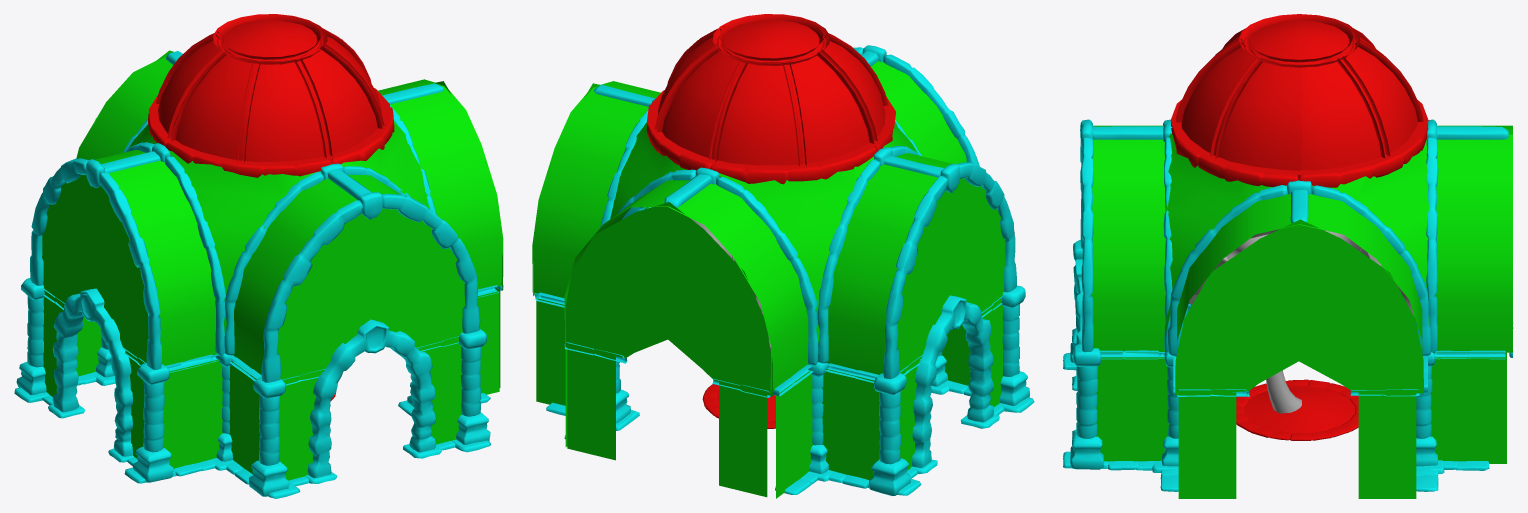
The model's file is Hallway_CrossSection_1.fbx.
The picture shows the model from 3 angles, left to right: view 1: azimuth 30°, elevation 25°; view 2: azimuth 150°, elevation 25°; view 3: azimuth 270°, elevation 25°; orthographic projection. The views are drawn at different scales.
Parts seen in each view (by area): view 1: Room_Cross:CrossRoomFinishedRoomsWalls, Room_Cross:FrameCrossRoomFinishedRooms, polySurface334; view 2: Room_Cross:CrossRoomFinishedRoomsWalls, Room_Cross:FrameCrossRoomFinishedRooms, polySurface334; view 3: Room_Cross:CrossRoomFinishedRoomsWalls, polySurface334, Room_Cross:FrameCrossRoomFinishedRooms, SM_Oak_Tree_1.
Boxes of the visible parts, <box> form: Room_Cross:CrossRoomFinishedRoomsWalls: <box>42,50,503,480</box>; Room_Cross:FrameCrossRoomFinishedRooms: <box>14,51,503,498</box>; polySurface334: <box>148,14,394,401</box>; Room_Cross:CrossRoomFinishedRoomsWalls: <box>532,61,1005,498</box>; Room_Cross:FrameCrossRoomFinishedRooms: <box>534,45,1034,495</box>; polySurface334: <box>646,14,895,428</box>; Room_Cross:CrossRoomFinishedRoomsWalls: <box>1092,125,1512,498</box>; polySurface334: <box>1170,14,1428,440</box>; Room_Cross:FrameCrossRoomFinishedRooms: <box>1063,119,1513,491</box>; SM_Oak_Tree_1: <box>1188,229,1414,413</box>.
Size of the model in its own units: 1275 by 1274 by 1199.
